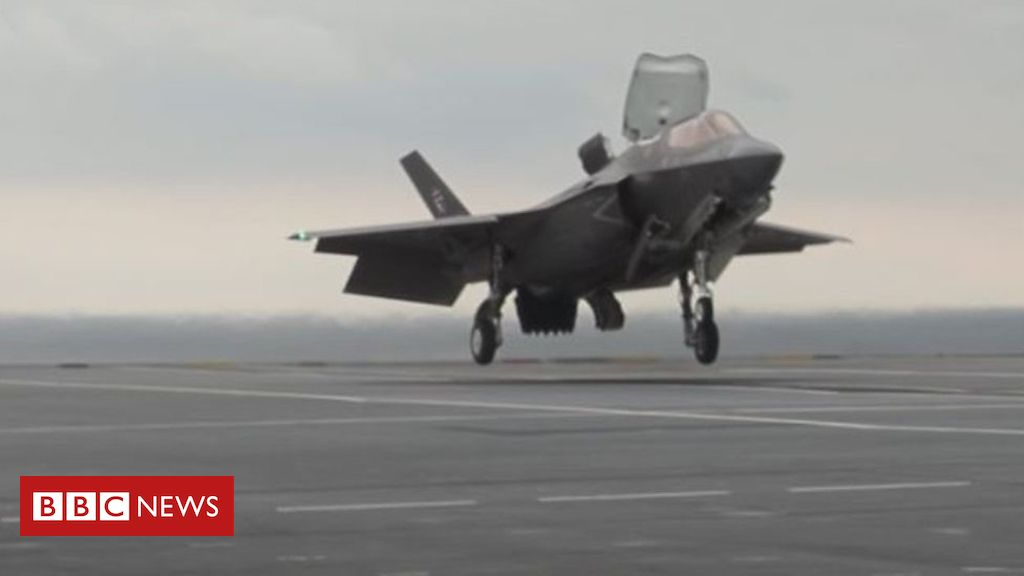F-35 Lightning: (296, 38, 874, 434)
